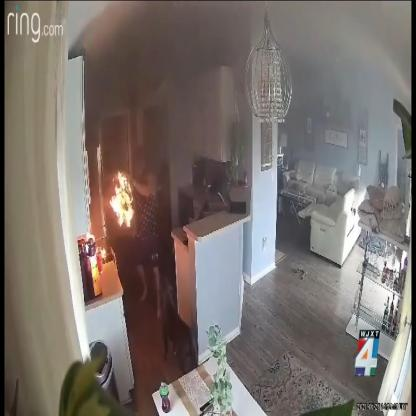fire: (110, 170, 134, 228)
